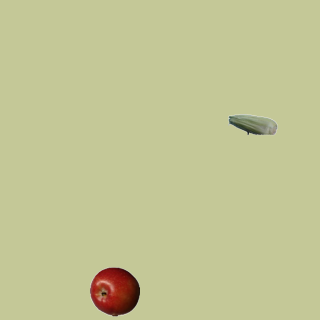Apple Braeburn: (89, 266, 139, 316)
Corn Husk: (227, 99, 277, 149)
